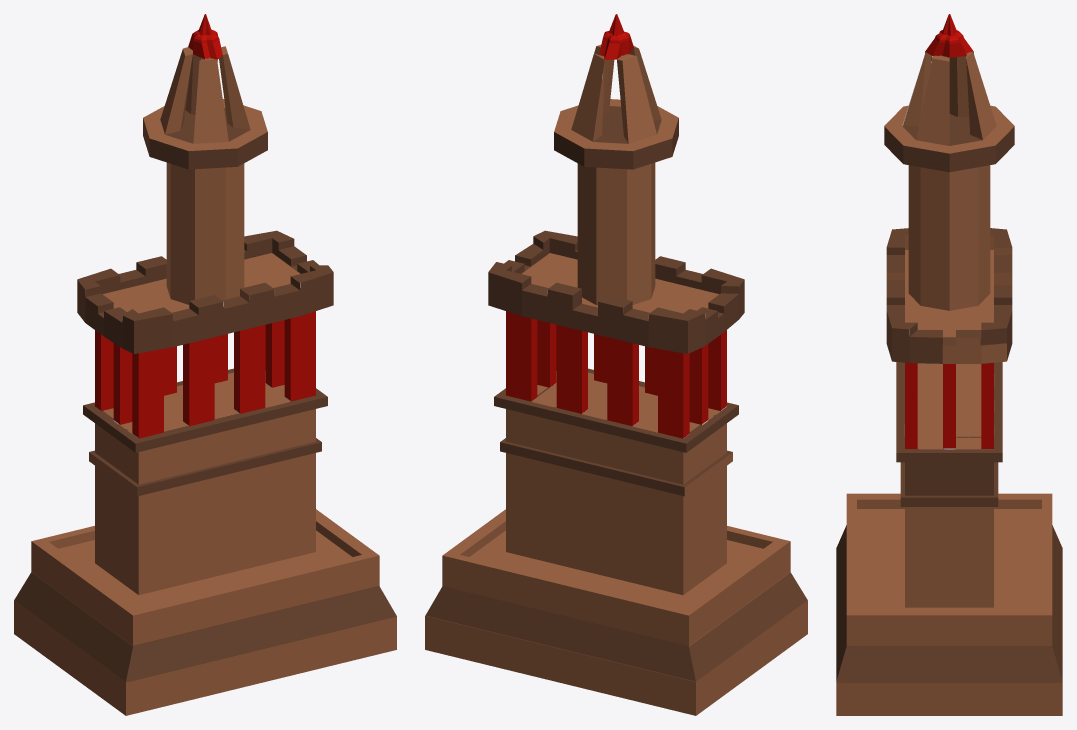
File: tik-chik-lighthouse.glb
3 renders of one model, left to right at view 1: azimuth 30°, elevation 25°; view 2: azimuth 150°, elevation 25°; view 3: azimuth 270°, elevation 25°, orthographic.
Visible parts, largest first — view 1: lighthouse; view 2: lighthouse; view 3: lighthouse.
Boxes of the visible parts, x1=… form: lighthouse: x1=14, y1=14, x2=396, y2=715; lighthouse: x1=425, y1=14, x2=807, y2=715; lighthouse: x1=836, y1=14, x2=1062, y2=715.
Bounding box in the file's own units: 7.7 × 17.04 × 5.5.
1 material, 1 textured.
